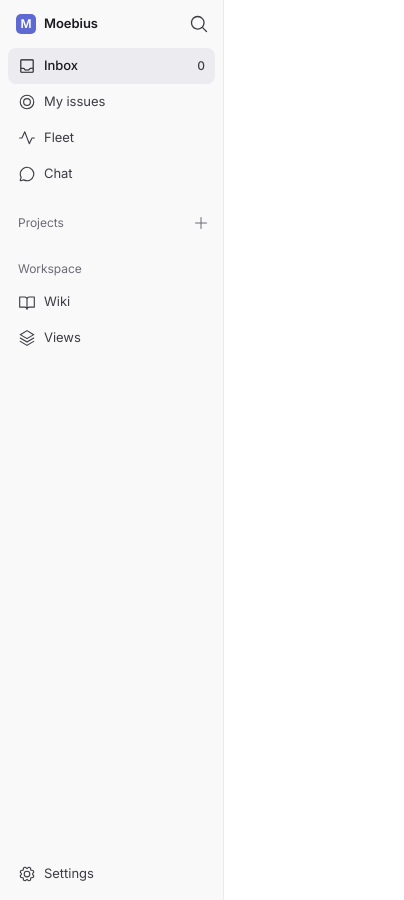
the list of places › adds a project or a repository from the + of Projects
Press the mouse on the button named "Add a project or a repository" at (201, 223), box [187,209,215,237]
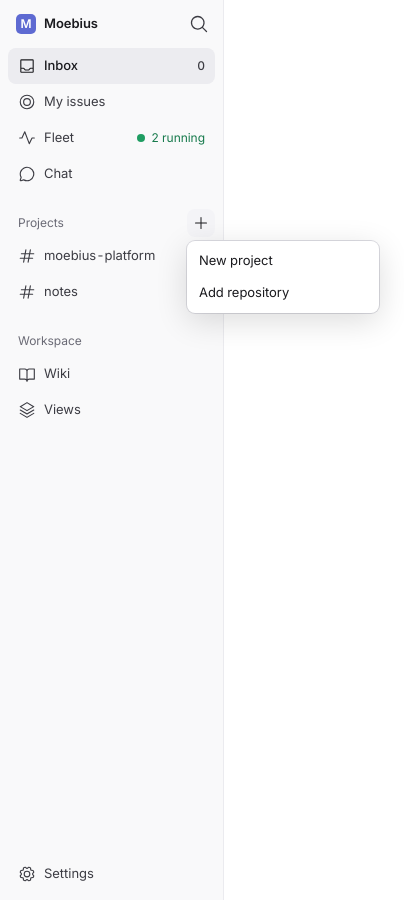
Check: the menu item "New project" is shown, box [199,252,273,268]
Check: the menu item "Add repository" is shown, box [199,284,289,300]
